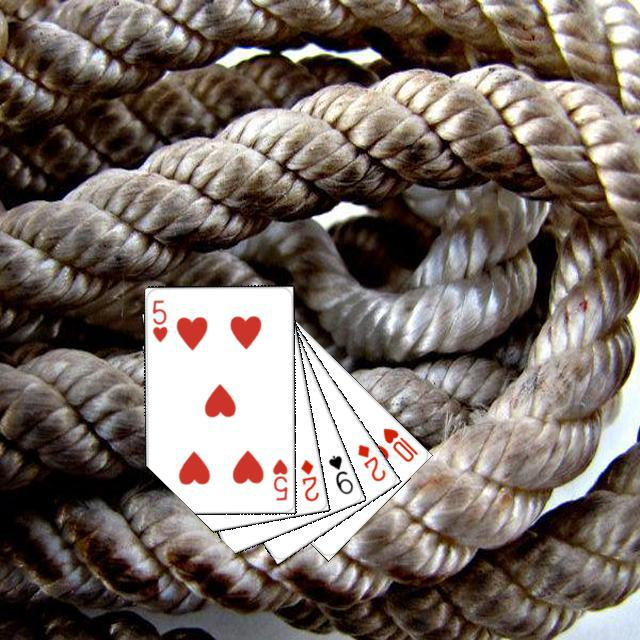10h: (378, 423, 420, 464)
2d: (352, 439, 387, 483), (295, 454, 321, 503)
5h: (268, 454, 289, 502), (148, 295, 169, 343)
9s: (323, 450, 355, 496)
